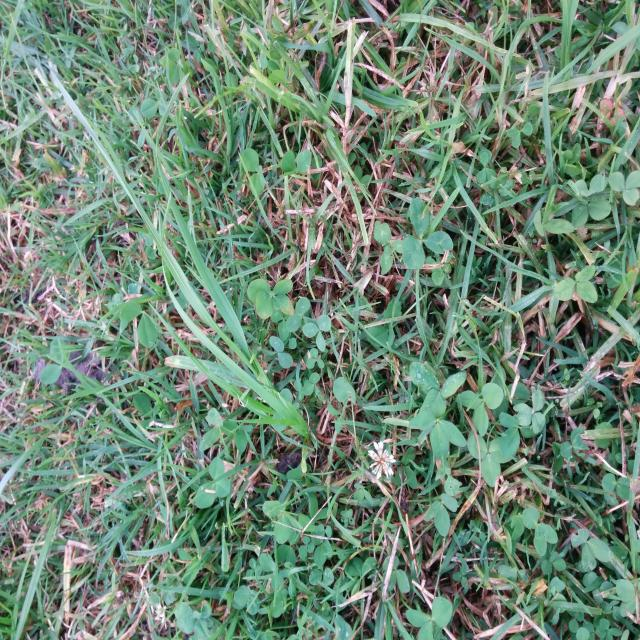Four Leaf Clover: (247, 278, 294, 319)
